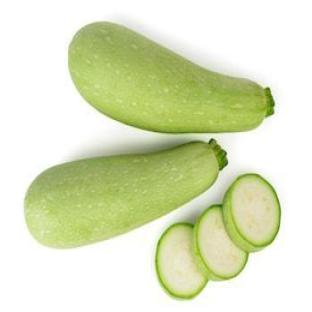Zucchini: (69, 23, 273, 133), (26, 141, 227, 248), (223, 174, 280, 251), (194, 206, 247, 280), (156, 224, 207, 298)
